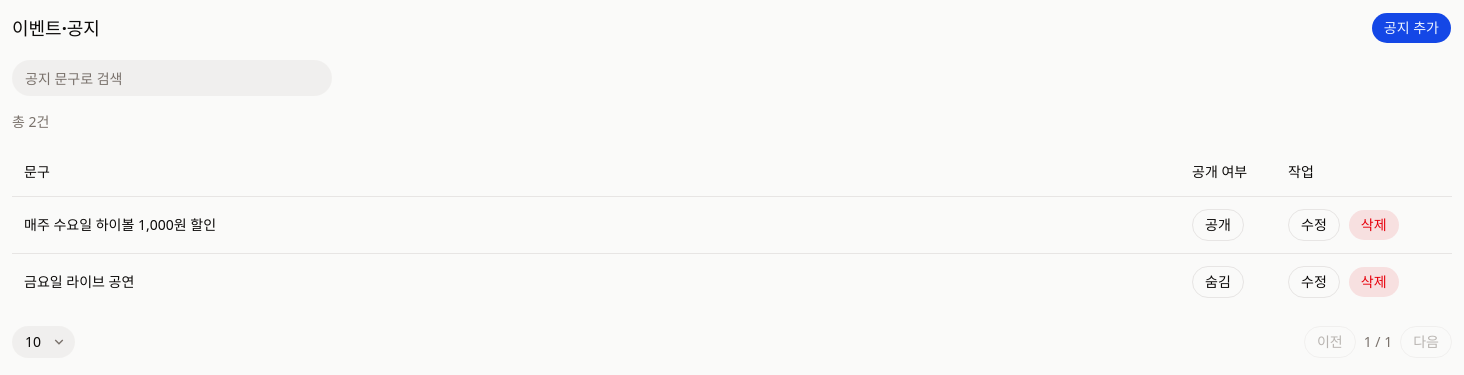
NoticeManagementPage › shows a distinct 'no results' state when a search yields nothing
The image size is (1464, 375).
Type "no-such-notice" into the search field with placeholder "공지 문구로 검색".
click(172, 78); type("no-such-notice")  # box [12,60,332,96]
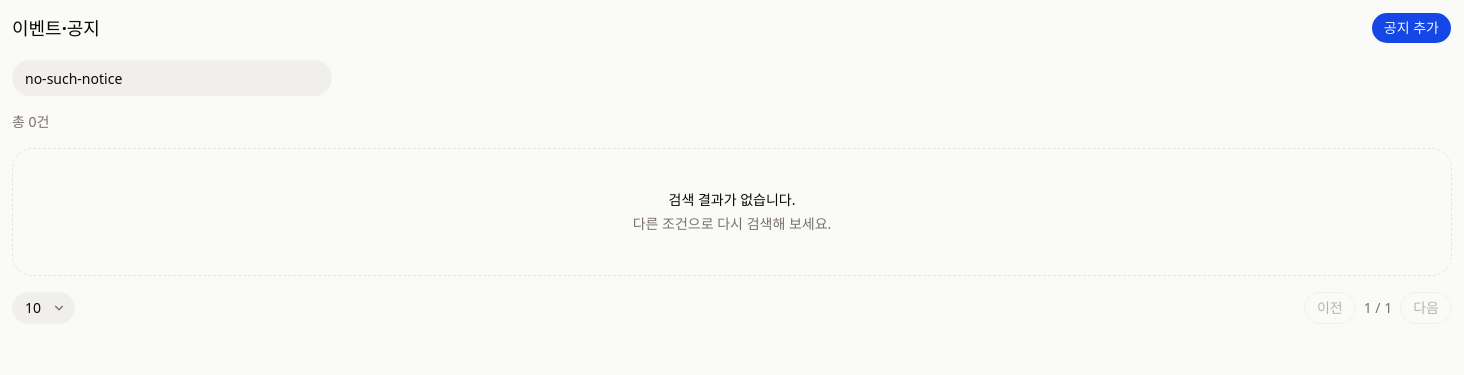
Now the text "검색 결과가 없습니다." is shown, box [668,190,796,210]
